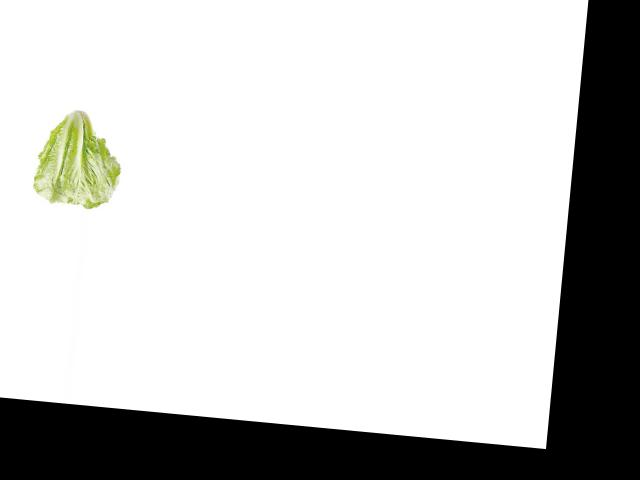lettuce: (34, 102, 129, 213)
